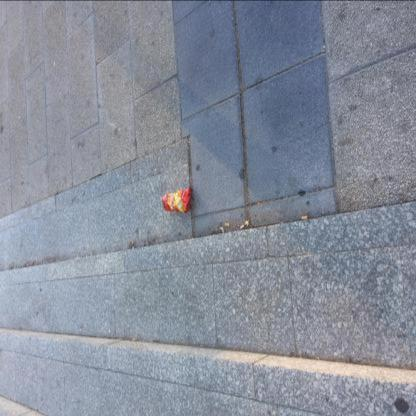Cigarette: (302, 215, 308, 219), (241, 224, 245, 229), (225, 222, 230, 226), (32, 260, 34, 264), (19, 116, 21, 119), (134, 338, 136, 341), (81, 326, 82, 331), (27, 264, 29, 266)
Plastic bag - wrapper: (161, 186, 192, 213)
